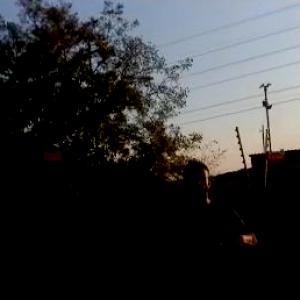follow: (160, 153, 263, 299)
